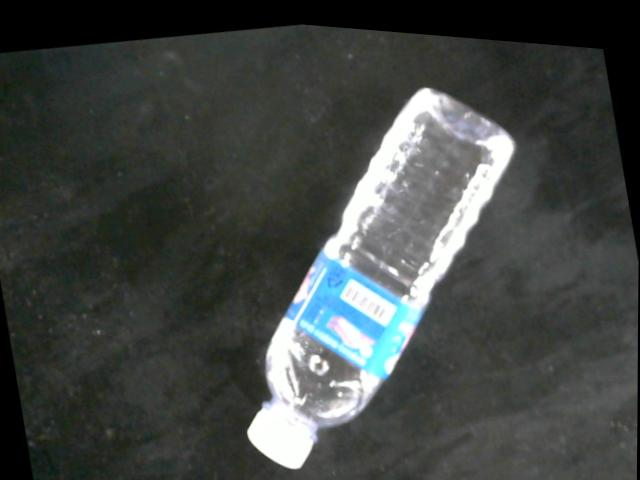bottle: (246, 76, 518, 465)
